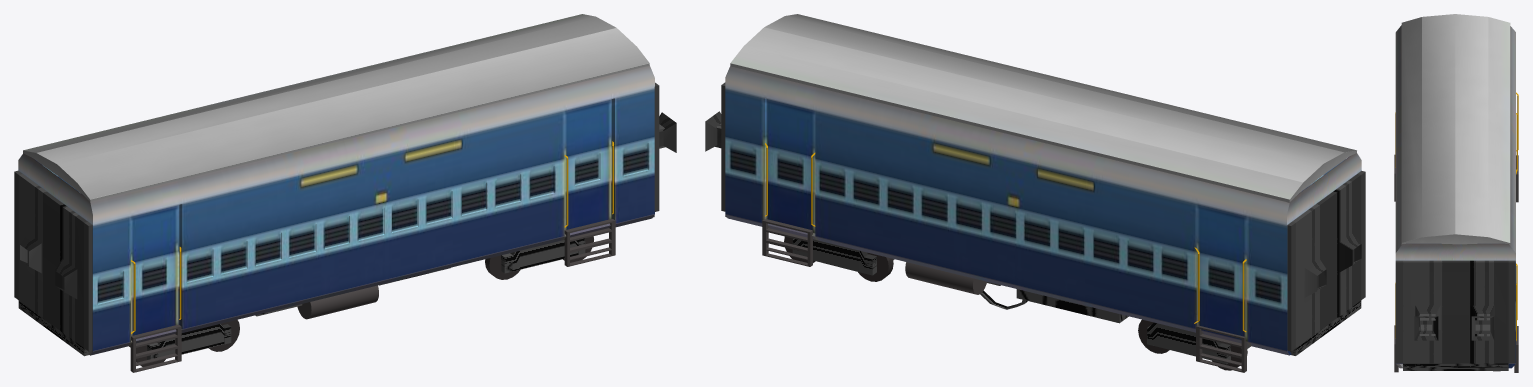
The model's file is train_coach.glb.
The picture shows the model from 3 angles, left to right: view 1: azimuth 30°, elevation 25°; view 2: azimuth 150°, elevation 25°; view 3: azimuth 270°, elevation 25°; orthographic projection. The views are drawn at different scales.
Visible parts, largest first — view 1: Object_2, Object_3, Object_23, Object_22, Object_25, Object_24, Object_11; view 2: Object_2, Object_3, Object_23, Object_22, Object_25, Object_24; view 3: Object_3, Object_23, Object_2, Object_11, Object_22, Object_24.
Boxes of the visible parts, left/top/right/bottom form: Object_2: left=18, top=65, right=654, bottom=355; Object_3: left=23, top=14, right=649, bottom=202; Object_23: left=14, top=82, right=665, bottom=359; Object_22: left=130, top=219, right=615, bottom=372; Object_25: left=136, top=236, right=593, bottom=366; Object_24: left=131, top=141, right=613, bottom=333; Object_11: left=659, top=112, right=676, bottom=152; Object_2: left=725, top=66, right=1361, bottom=355; Object_3: left=730, top=14, right=1356, bottom=202; Object_23: left=715, top=82, right=1365, bottom=364; Object_22: left=762, top=219, right=1246, bottom=372; Object_25: left=784, top=236, right=1247, bottom=370; Object_24: left=765, top=143, right=1246, bottom=332; Object_3: left=1401, top=14, right=1510, bottom=245; Object_23: left=1395, top=260, right=1515, bottom=370; Object_2: left=1395, top=25, right=1515, bottom=368; Object_11: left=1414, top=315, right=1494, bottom=340; Object_22: left=1394, top=154, right=1518, bottom=372; Object_24: left=1395, top=92, right=1518, bottom=340.
Size of the model in its own units: 41.81 by 13.31 by 9.17.
6 materials, 3 textured.
